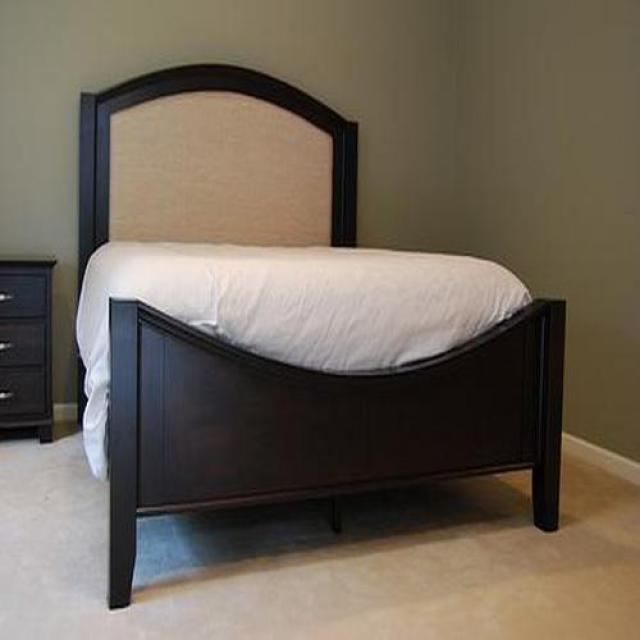bed: (77, 65, 567, 612)
